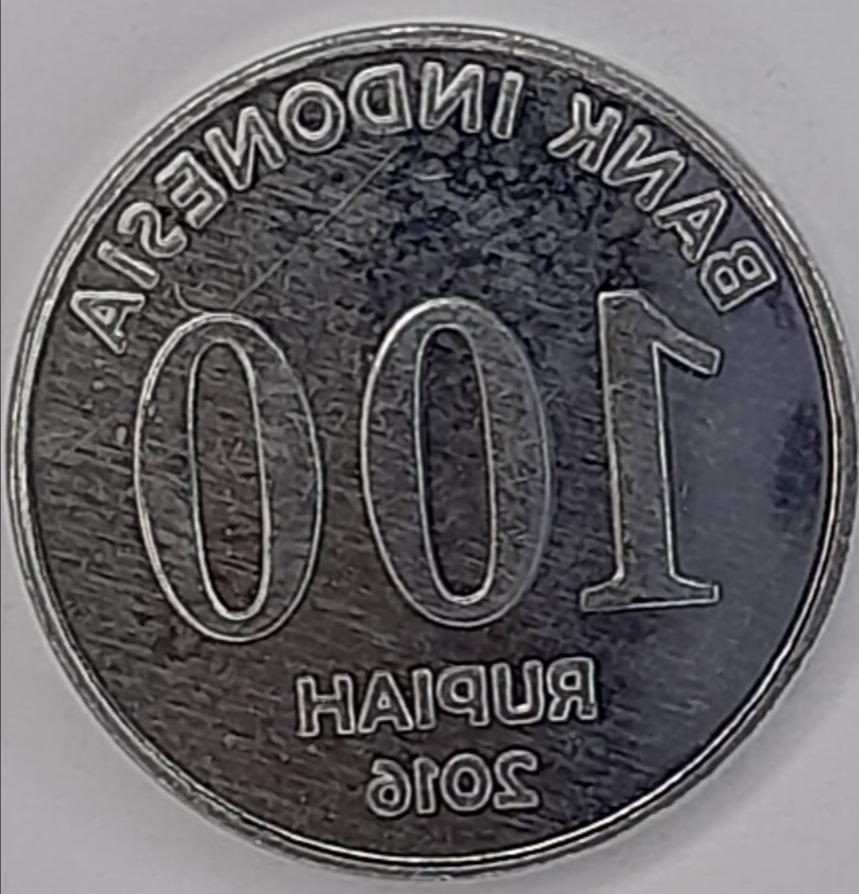coin_100_e2016: (0, 17, 858, 882)
